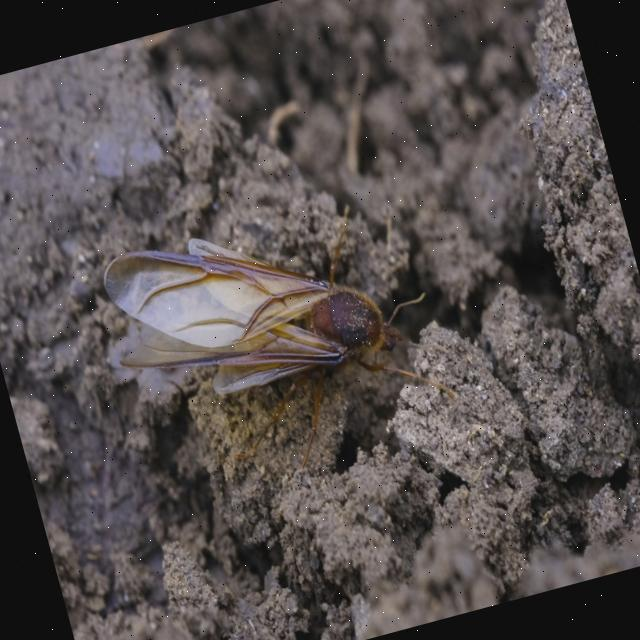Alive-Male-Alate: (92, 181, 464, 508)
